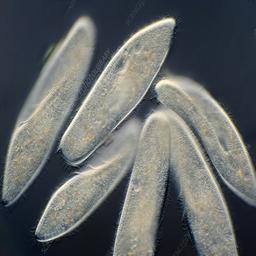Paramecium: (2, 14, 95, 208), (61, 18, 176, 162), (31, 119, 142, 242), (114, 113, 172, 254)
